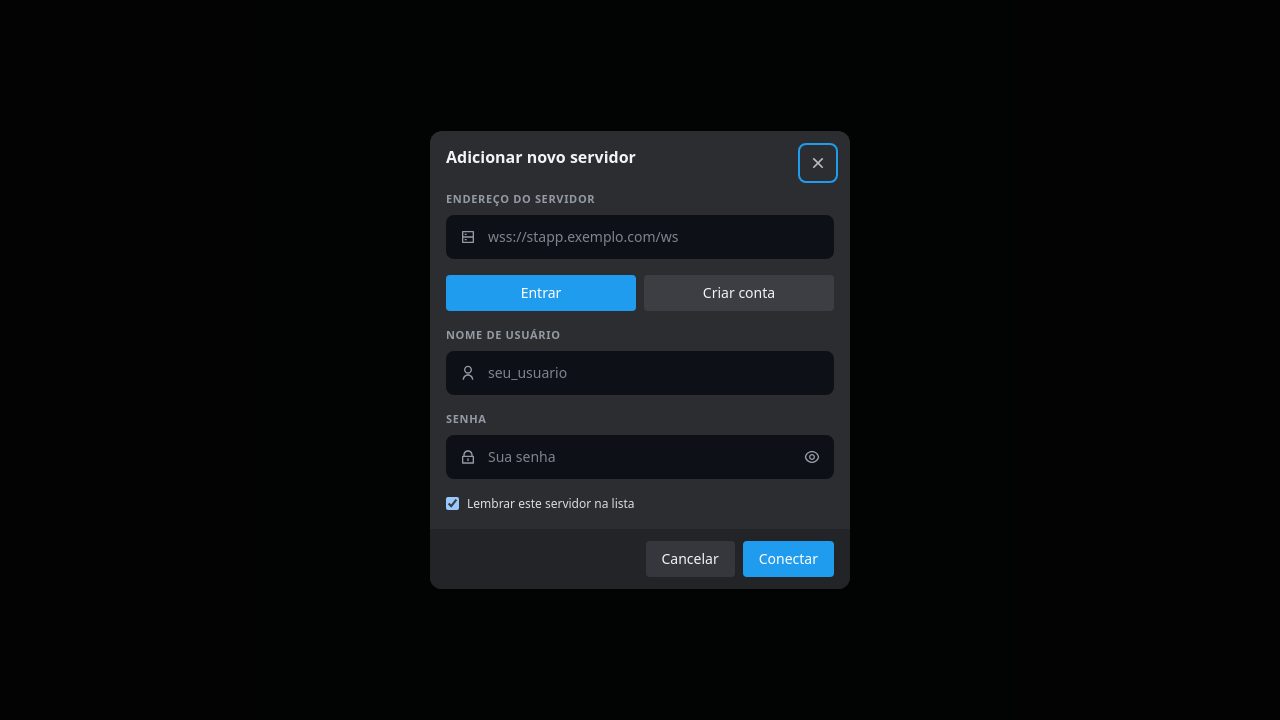
Test case: JoinServerModal › renderiza os campos corretamente e alterna entre login e cadastro
The width and height of the screenshot is (1280, 720).
Expected: the dialog named "Adicionar servidor" is shown, [430,131,850,589]
Expected: the field labelled "Endereço do Servidor" is shown, [446,215,834,259]
# Switch to register mode
Click the button "Criar conta" at point(739, 293), box [644,275,834,311]
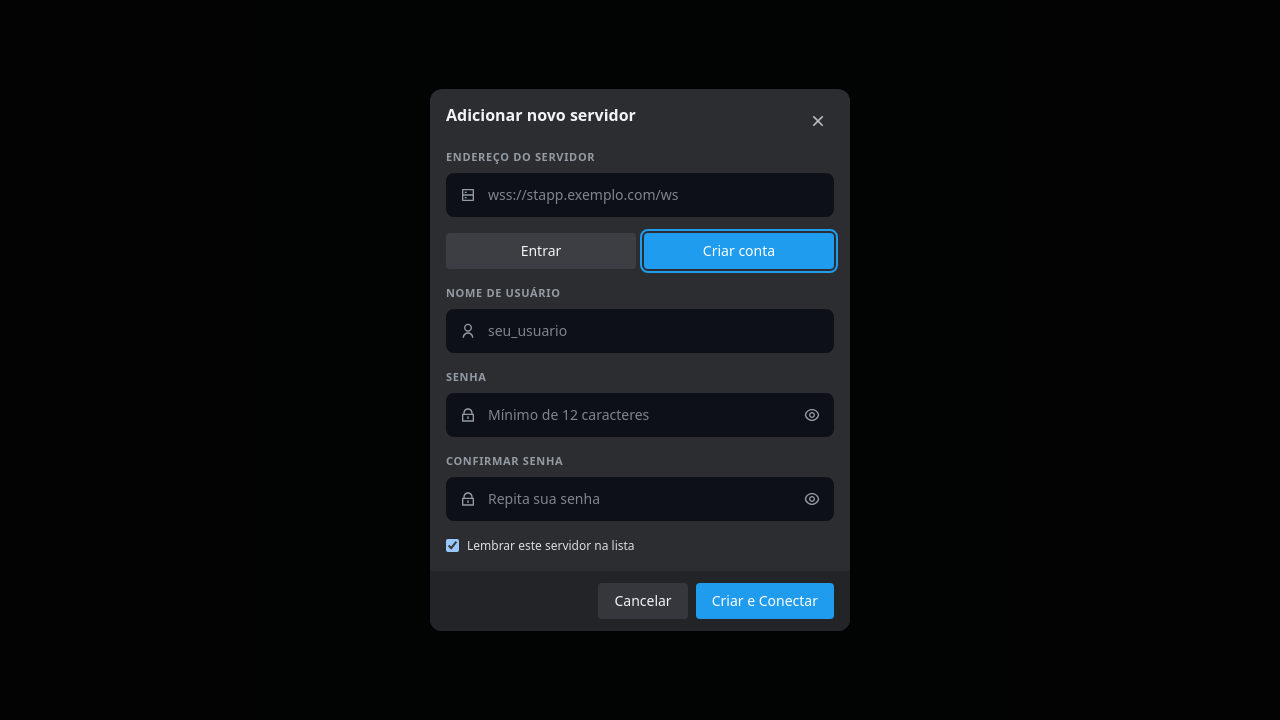
Now the password field labelled "Confirmar senha" is shown, box [446,477,834,521]
